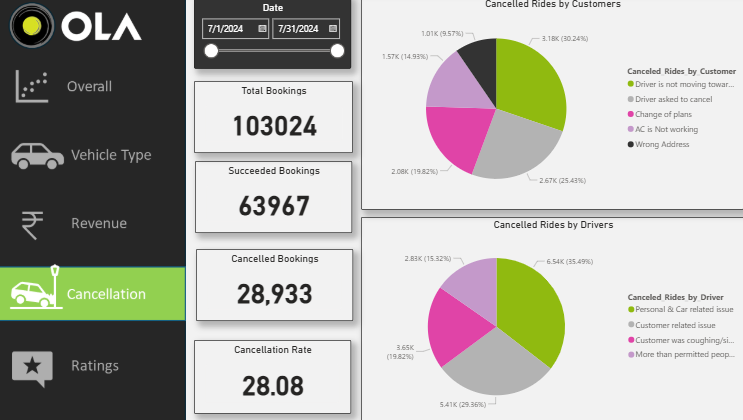

The dashboard page shown, as its layout file describes it:
{"tool":"powerbi","page":{"name":"Cancellation","canvas":[1280,720],"ordinal":3},"visuals":[{"type":"actionButton","box":[0,222.2,327,93.7],"z":0},{"type":"actionButton","box":[0,338.1,327,93.7],"z":1000},{"type":"actionButton","box":[0,442.9,327,93.7],"z":2000},{"type":"actionButton","box":[0,577.8,327,93.7],"z":3000},{"type":"actionButton","box":[0,109.5,327,93.7],"z":4000},{"type":"actionButton","box":[10,119.5,327,93.7],"z":5000},{"type":"pieChart","title":"Cancelled Rides by Customers","fields":{"Category":["July (3).Canceled_Rides_by_Customer"],"Y":["CountNonNull(July (3).Canceled_Rides_by_Customer)"]},"box":[618.2,0,643.4,359.5],"z":6000},{"type":"pieChart","title":"Cancelled Rides by Drivers","fields":{"Y":["CountNonNull(July (3).Canceled_Rides_by_Driver)"],"Category":["July (3).Canceled_Rides_by_Driver"]},"box":[618.2,371.2,645,349.4],"z":7000},{"type":"slicer","title":"Date","fields":{"Values":["July (3).Date"]},"box":[337.3,0,263.6,121.9],"z":8000},{"type":"cardVisual","title":"Total Bookings","fields":{"Data":["CountNonNull(July (3).Booking_ID)"]},"box":[337.6,142.8,267.1,120.9],"z":9000},{"type":"cardVisual","title":"Succeeded Bookings","fields":{"Data":["CountNonNull(July (3).Booking_ID)"]},"box":[339.3,277.2,263.7,120.9],"z":10000},{"type":"cardVisual","title":"Cancelled Bookings","fields":{"Data":["CountNonNull(July (3).Booking_ID)"]},"box":[341,425,263.7,120.9],"z":11000},{"type":"cardVisual","title":"Cancellation Rate","fields":{"Data":["July (3).CanceledPercentage"]},"box":[337.6,577.8,263.7,124.3],"z":12000}]}

Visuals, with their boxes on the page's 1280x720 design canvas (x1, y1, x2, y2). These are canvas units, not pixel positions in the 743x420 screenshot, which may show the page scaled, cropped or inside an application window:
actionButton: [x1=0, y1=222, x2=327, y2=316]
actionButton: [x1=0, y1=338, x2=327, y2=432]
actionButton: [x1=0, y1=443, x2=327, y2=537]
actionButton: [x1=0, y1=578, x2=327, y2=672]
actionButton: [x1=0, y1=110, x2=327, y2=203]
actionButton: [x1=10, y1=120, x2=337, y2=213]
"Cancelled Rides by Customers" pieChart: [x1=618, y1=0, x2=1262, y2=360]
"Cancelled Rides by Drivers" pieChart: [x1=618, y1=371, x2=1263, y2=721]
"Date" slicer: [x1=337, y1=0, x2=601, y2=122]
"Total Bookings" cardVisual: [x1=338, y1=143, x2=605, y2=264]
"Succeeded Bookings" cardVisual: [x1=339, y1=277, x2=603, y2=398]
"Cancelled Bookings" cardVisual: [x1=341, y1=425, x2=605, y2=546]
"Cancellation Rate" cardVisual: [x1=338, y1=578, x2=601, y2=702]
